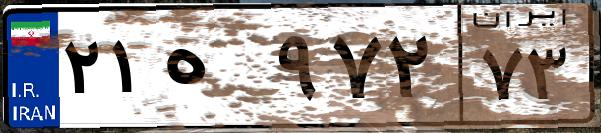1: (110, 28, 158, 98)
2: (385, 28, 445, 110), (57, 26, 110, 100)
3: (525, 38, 570, 115)
7: (330, 28, 385, 110), (475, 38, 525, 113)
9: (270, 28, 330, 110)
ه: (158, 20, 270, 120)
